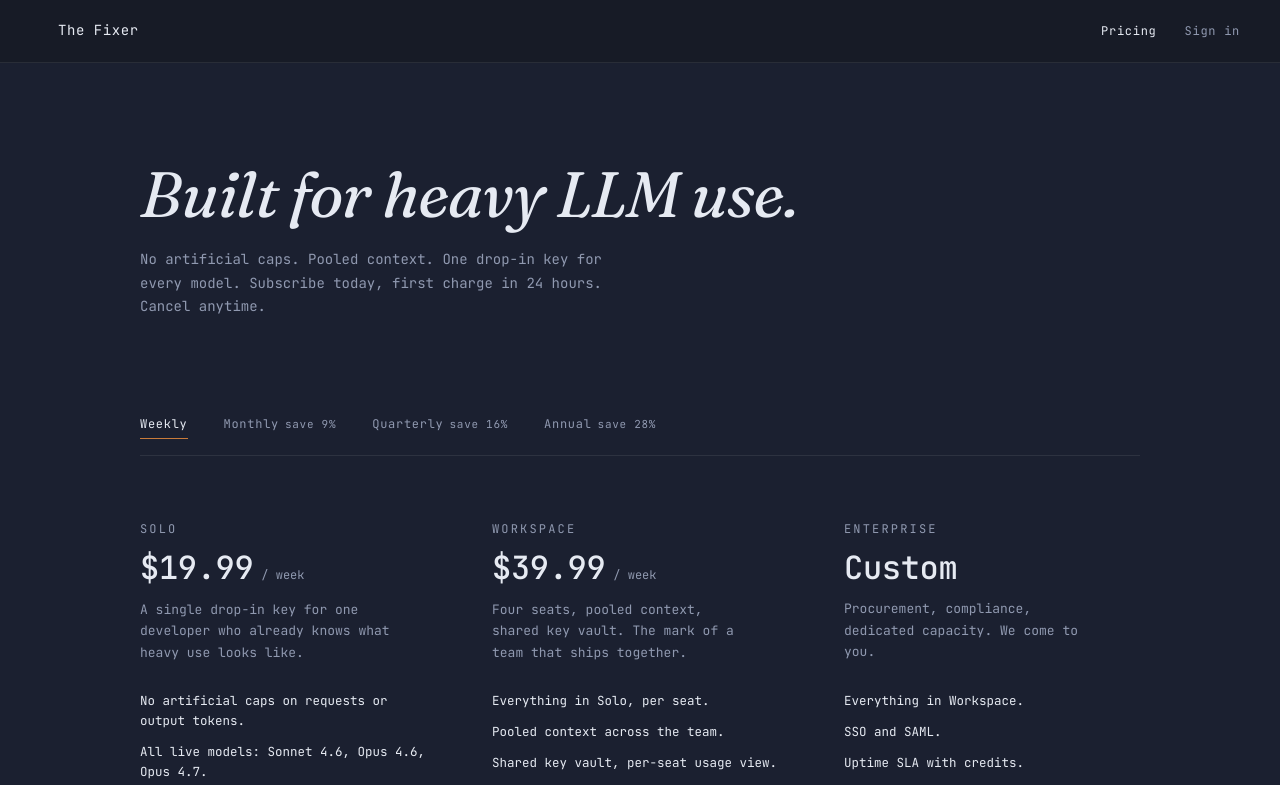
Scenario: Pricing page › switches prices when monthly cadence is selected
Click the tab "Monthly" at (280, 427), box [224,415,336,439]
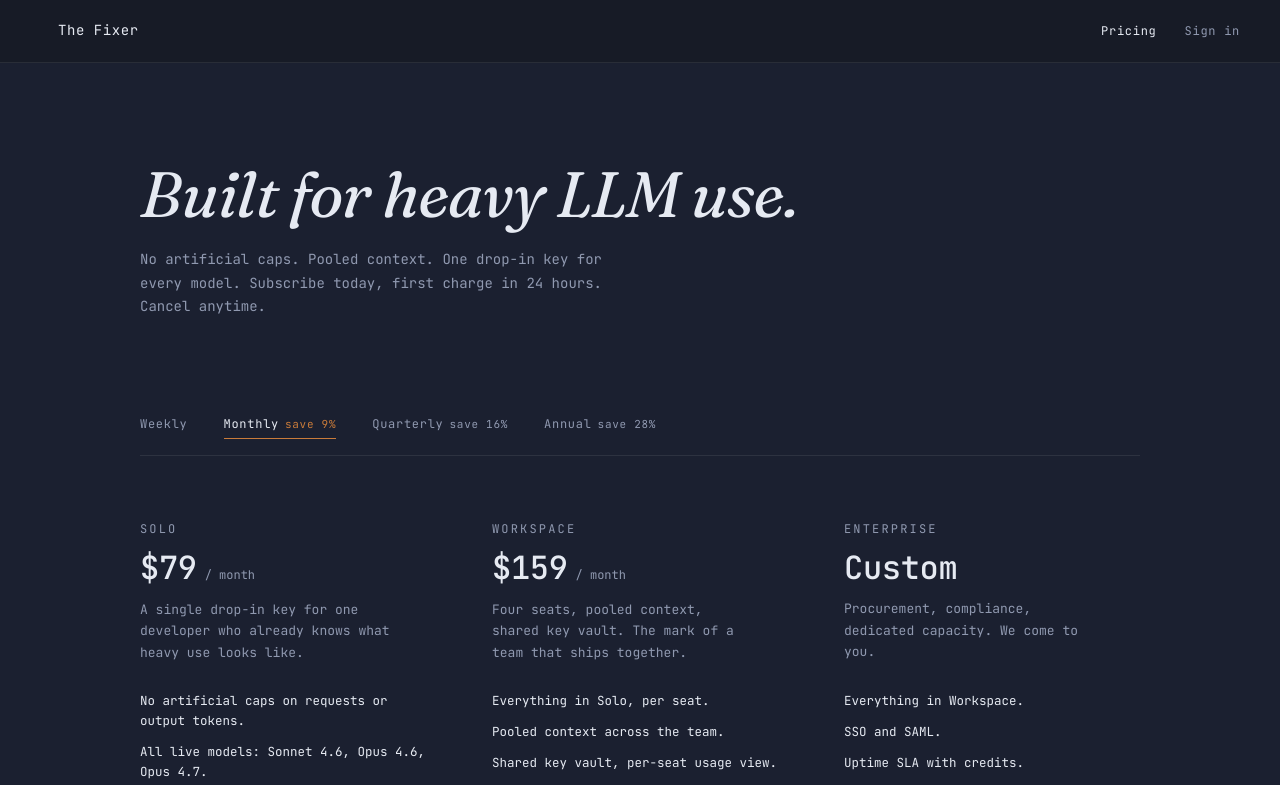
Result: the text "$79" is shown at [140,552,197,584]
Result: the text "$159" is shown at [492,552,568,584]
